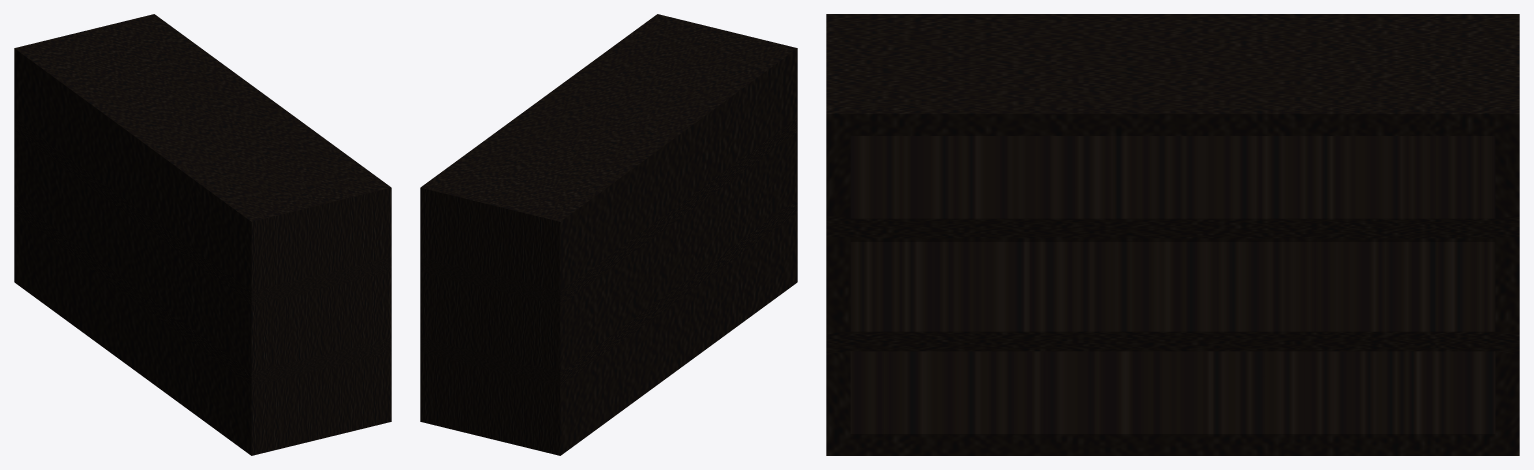
Rendered from bookshelf.fbx.
3 renders of one model, left to right at view 1: azimuth 30°, elevation 25°; view 2: azimuth 150°, elevation 25°; view 3: azimuth 270°, elevation 25°, orthographic. The views are drawn at different scales.
Parts seen in each view (by area): view 1: bookshelf; view 2: bookshelf; view 3: bookshelf.
Boxes of the visible parts, x1,y1,x2,y2 form: bookshelf: [14, 14, 391, 455]; bookshelf: [420, 14, 797, 455]; bookshelf: [826, 14, 1519, 455].
Bounding box in the file's own units: 149 × 238 × 438.
